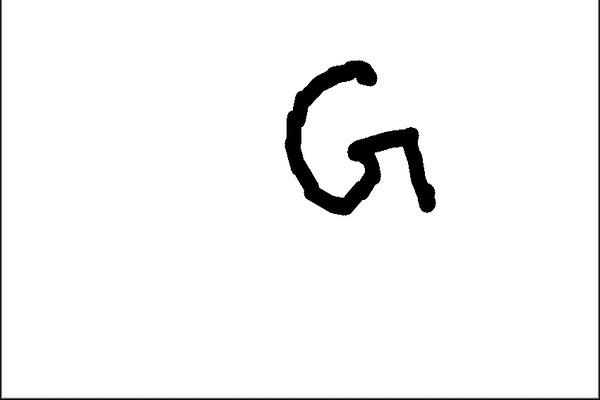G: (282, 57, 440, 220)
